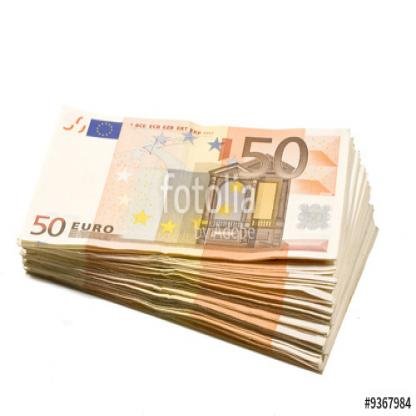billete: (15, 102, 380, 375)
